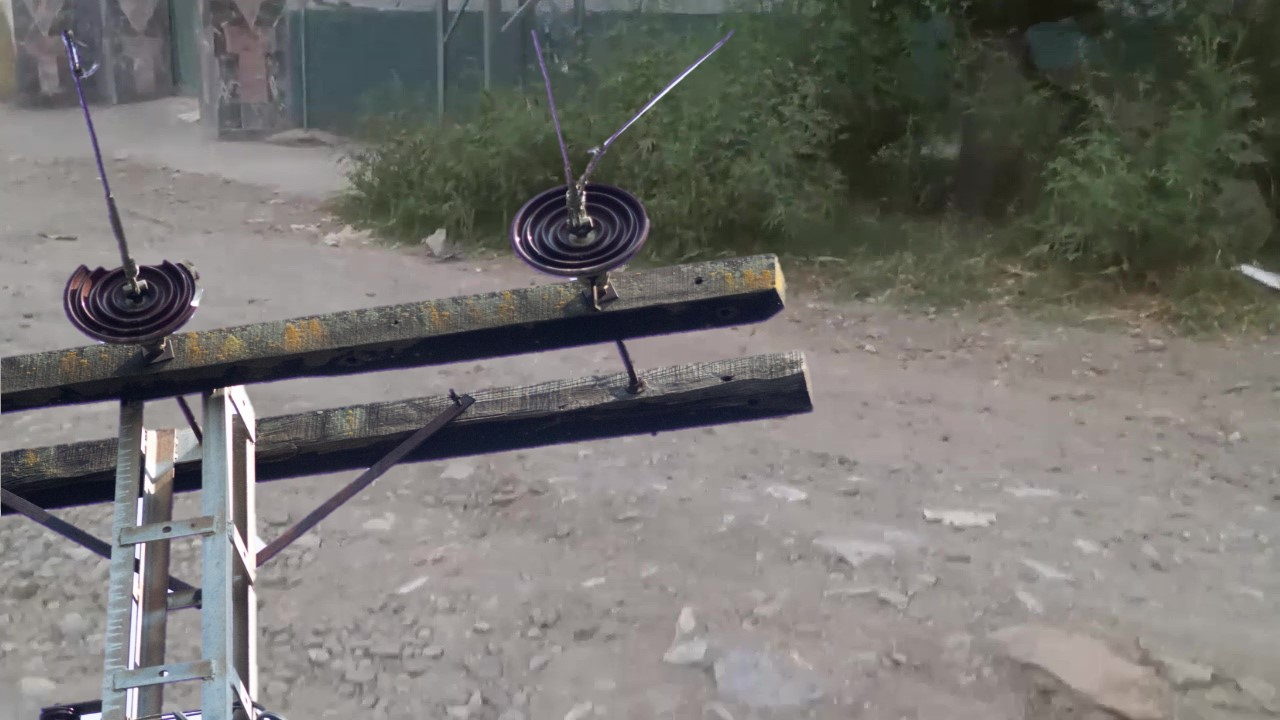defect_disc: (61, 251, 210, 344)
insulator_disc: (509, 180, 657, 277)
